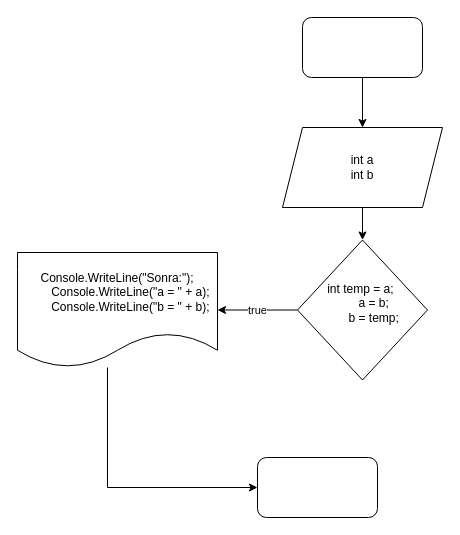
Some shapes in this 460 by 535 pixel diagram are drawn without their labels. The shapes that lost their labels are listed below. From the top down, each one's centre as x and y in pixels, then its label:
At pixel 362 47: "start".
At pixel 317 487: "end".
